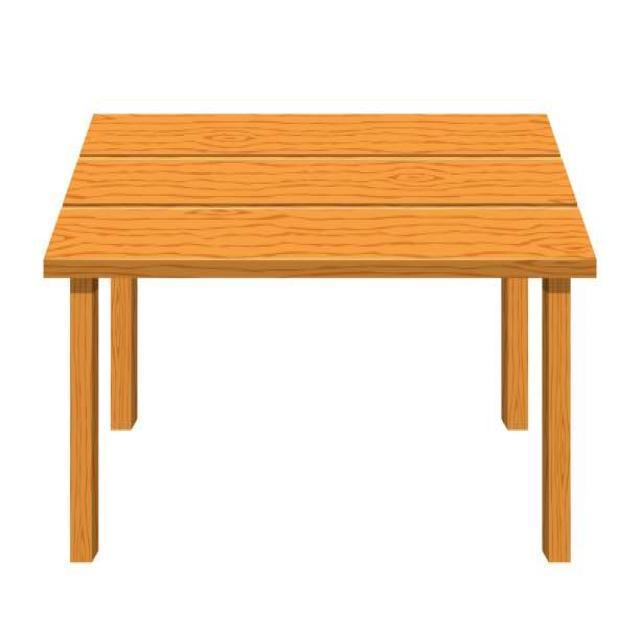table: (41, 110, 598, 566)
